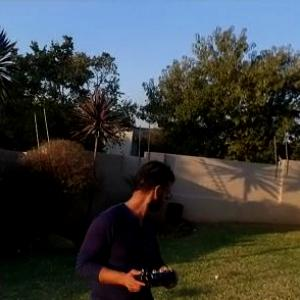follow: (70, 154, 180, 299)
